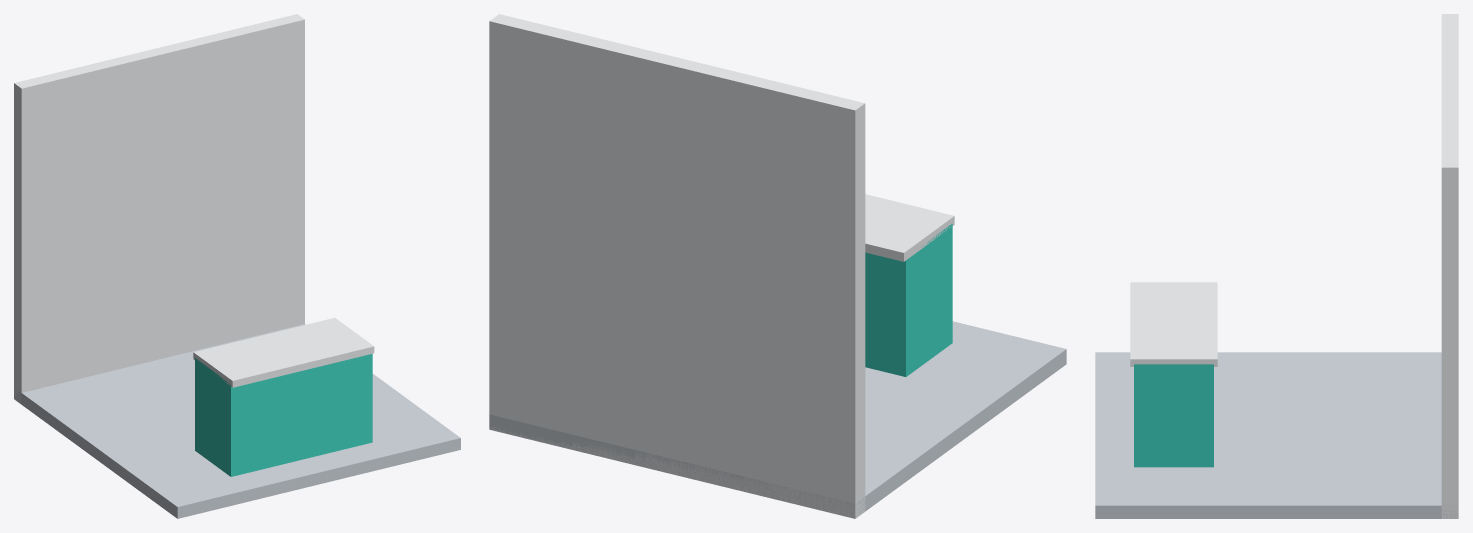
3 renders of one model, left to right at view 1: azimuth 30°, elevation 25°; view 2: azimuth 150°, elevation 25°; view 3: azimuth 270°, elevation 25°, orthographic. The views are drawn at different scales.
Visible parts, largest first — view 1: Exhibition Booth Concept; view 2: Exhibition Booth Concept; view 3: Exhibition Booth Concept.
Boxes of the visible parts, x1,y1,x2,y2 form: Exhibition Booth Concept: [14, 14, 460, 518]; Exhibition Booth Concept: [489, 14, 1066, 518]; Exhibition Booth Concept: [1095, 14, 1458, 518].
Size of the model in its own units: 3 by 3.2 by 3.
